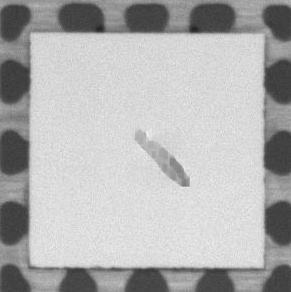DIE_INK: (131, 126, 189, 187)
